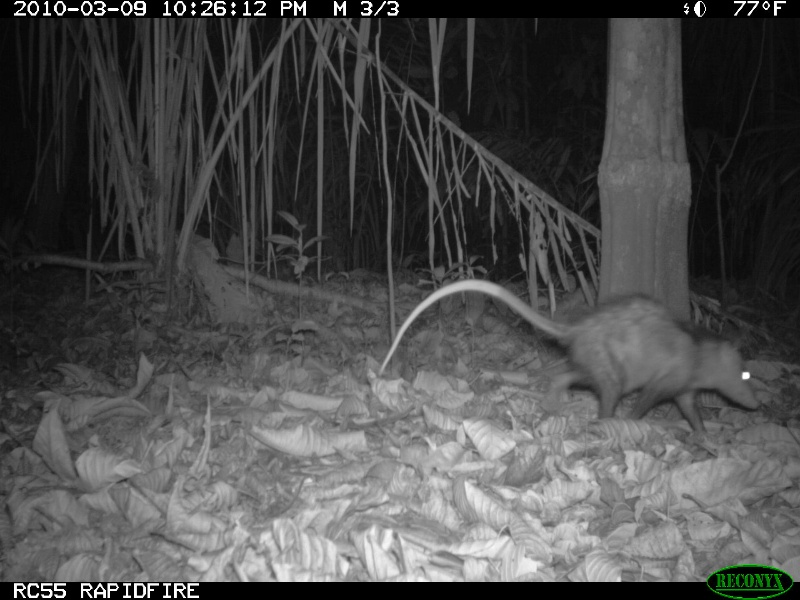opossum: (368, 265, 776, 440)
